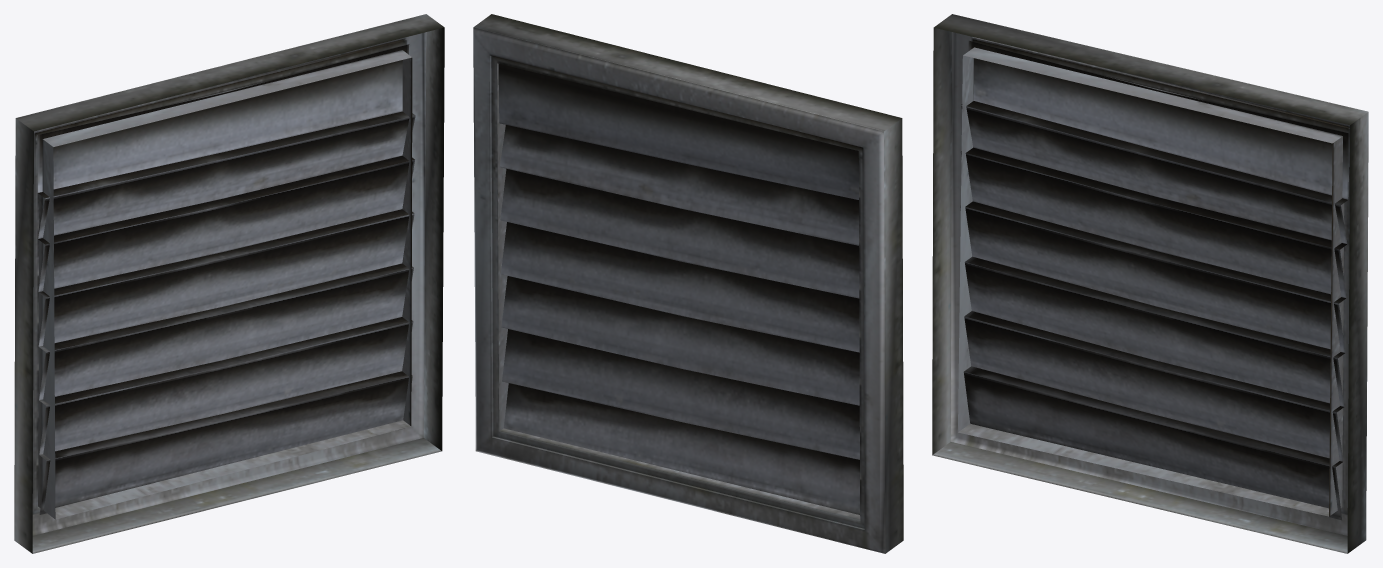
Rendered from sm_VentilationShaft_01_04.fbx.
3 renders of one model, left to right at view 1: azimuth 30°, elevation 25°; view 2: azimuth 150°, elevation 25°; view 3: azimuth 330°, elevation 25°, orthographic.
Visible parts, largest first — view 1: sm_VentilationShaft_01_04_LOD0; view 2: sm_VentilationShaft_01_04_LOD0; view 3: sm_VentilationShaft_01_04_LOD0.
Boxes of the visible parts, box(x1,y1,x2,y2) form: sm_VentilationShaft_01_04_LOD0: box(14, 14, 444, 553); sm_VentilationShaft_01_04_LOD0: box(473, 14, 903, 553); sm_VentilationShaft_01_04_LOD0: box(932, 14, 1368, 553).
Size of the model in its own units: 4.99 by 58.1 by 57.39.
